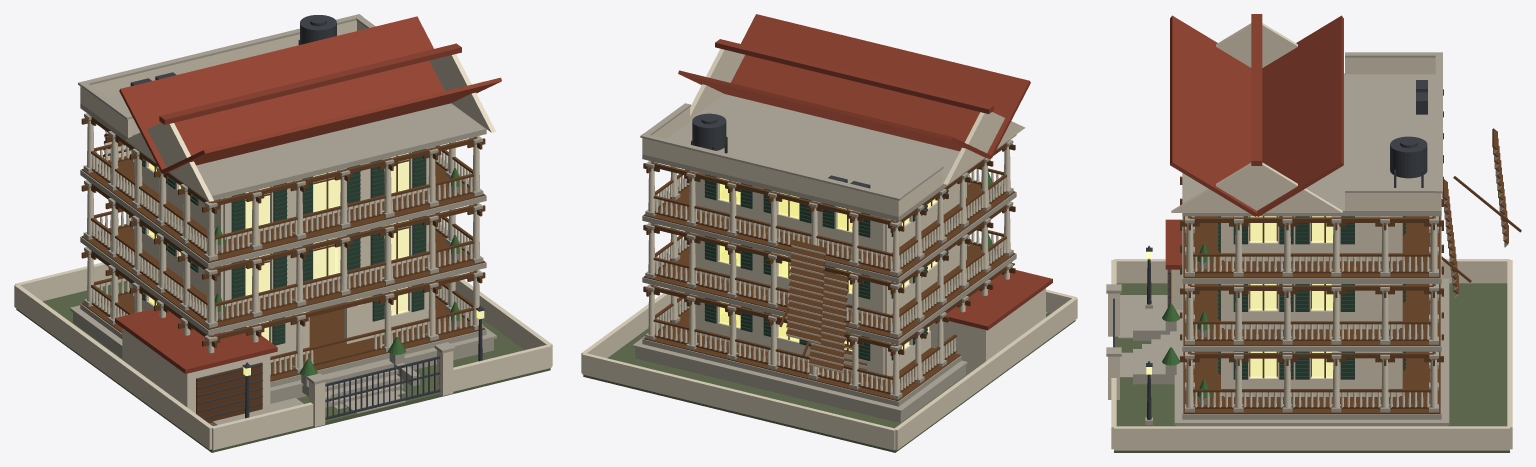
The model's file is colonial_house.glb.
3 renders of one model, left to right at view 1: azimuth 30°, elevation 25°; view 2: azimuth 150°, elevation 25°; view 3: azimuth 270°, elevation 25°, orthographic. The views are drawn at different scales.
Parts seen in each view (by area): view 1: stucco, roof_tile, teak, stone, shutter, metal, lit_glass, ground, foliage; view 2: stucco, stone, teak, roof_tile, ground, shutter, lit_glass, metal; view 3: stucco, stone, teak, roof_tile, ground, shutter, lit_glass, metal, foliage.
Boxes of the visible parts, box(x1,y1,x2,y2) form: stucco: box(14, 20, 552, 450); roof_tile: box(115, 16, 501, 373); teak: box(81, 115, 485, 423); stone: box(70, 14, 496, 425); shutter: box(142, 149, 426, 345); metal: box(130, 15, 484, 419); lit_glass: box(149, 153, 484, 376); ground: box(16, 281, 550, 452); foliage: box(214, 168, 462, 376); stucco: box(581, 48, 1077, 450); stone: box(632, 94, 1047, 422); teak: box(643, 141, 1015, 401); roof_tile: box(678, 14, 1052, 330); ground: box(583, 302, 1075, 452); shutter: box(704, 174, 948, 360); lit_glass: box(720, 178, 1014, 351); metal: box(691, 113, 1014, 265); stucco: box(1108, 23, 1512, 450); stone: box(1106, 52, 1508, 426); teak: box(1169, 89, 1521, 413); roof_tile: box(1165, 14, 1343, 269); ground: box(1114, 283, 1509, 452); shutter: box(1218, 216, 1405, 379); lit_glass: box(1146, 216, 1337, 377); metal: box(1113, 80, 1427, 419); foliage: box(1162, 243, 1211, 398).
Size of the model in its own units: 18.24 by 14.33 by 18.88.
